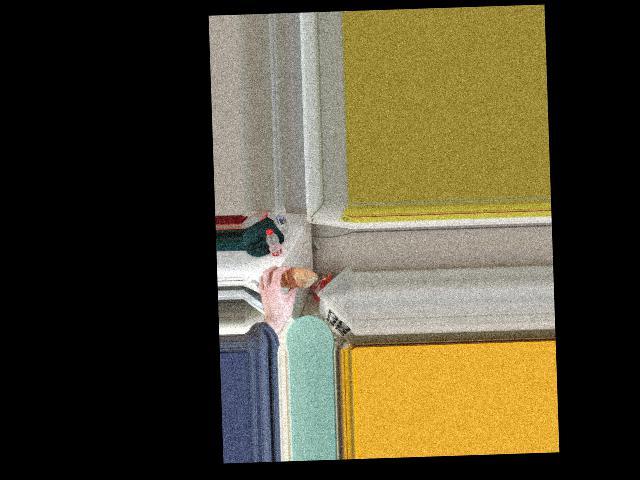sweet_potato: (277, 266, 309, 288)
